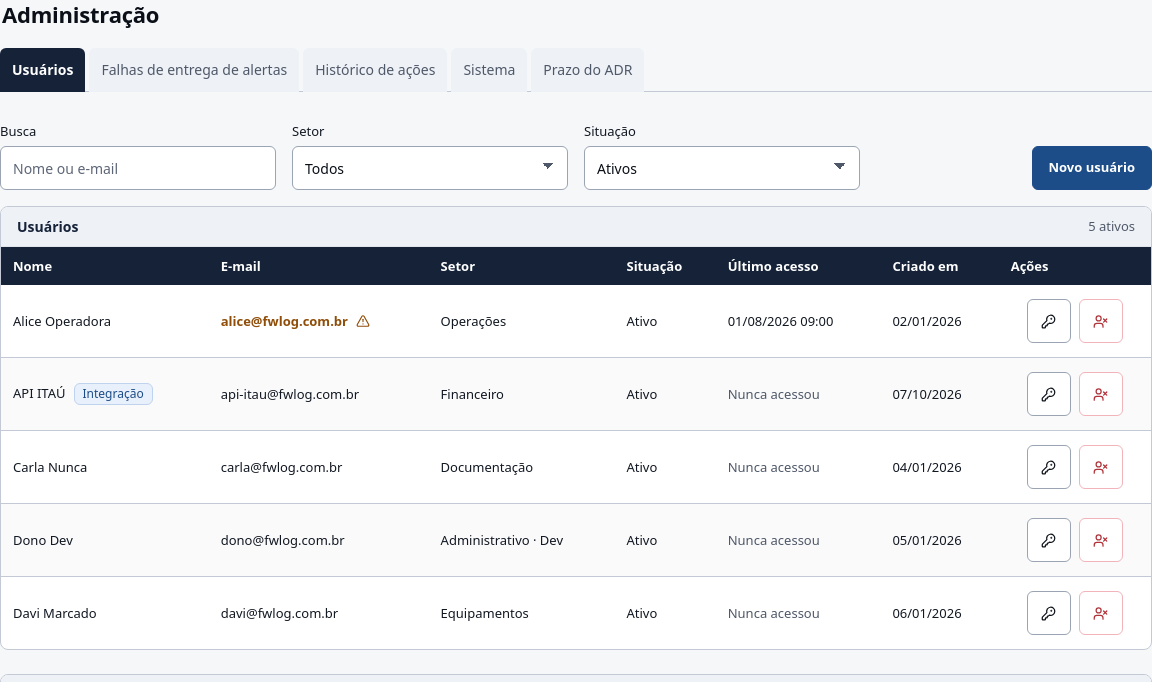
Scenario: a linha de outra pessoa continua com o Setor liberado
Step 1. Click the button named "Editar acesso de Carla Nunca" → (1049, 467), box [1027,445,1071,489]
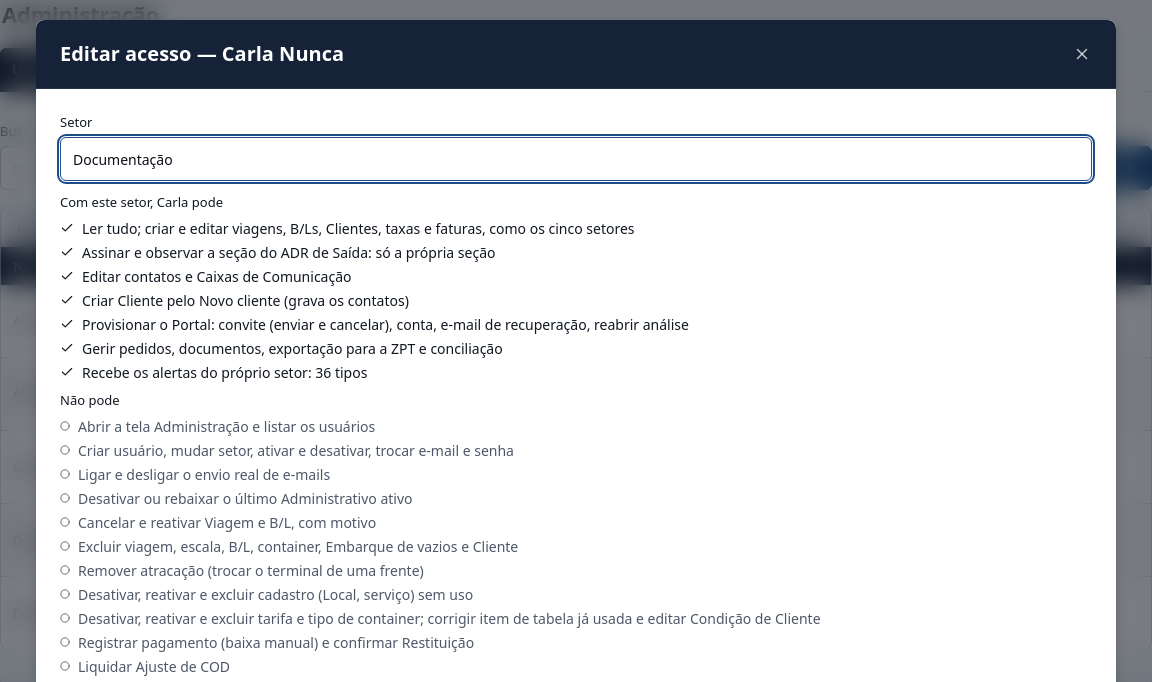
Expected: the dropdown labelled "Setor" is enabled, [60,137,1092,181]
